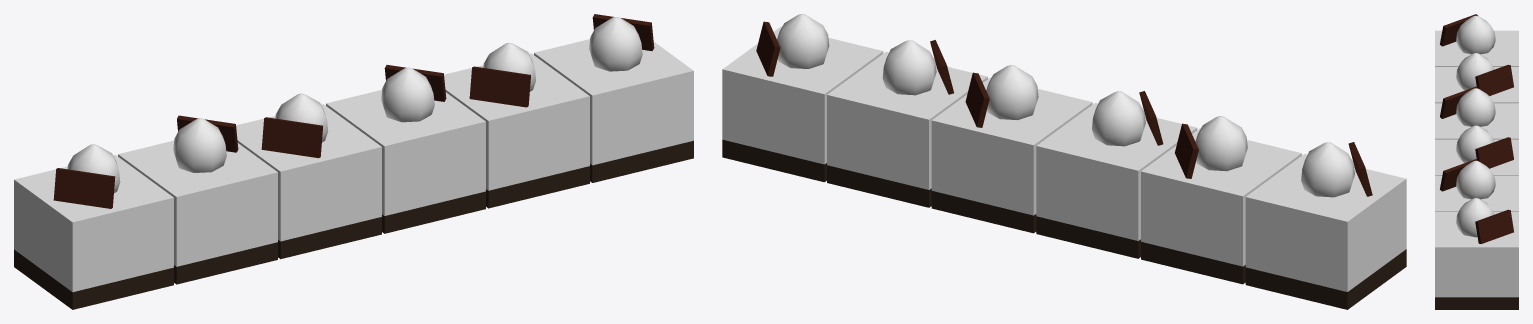
Rendered from cake_blue_6.fbx.
The picture shows the model from 3 angles, left to right: view 1: azimuth 30°, elevation 25°; view 2: azimuth 150°, elevation 25°; view 3: azimuth 270°, elevation 25°; orthographic projection. The views are drawn at different scales.
Parts seen in each view (by area): view 1: 立方体.024; view 2: 立方体.024; view 3: 立方体.024.
Boxes of the visible parts, x1=… form: 立方体.024: x1=14, y1=14, x2=693, y2=309; 立方体.024: x1=722, y1=14, x2=1406, y2=309; 立方体.024: x1=1435, y1=14, x2=1518, y2=309.
Bounding box in the file's own units: 89.42 × 18.16 × 14.6.
